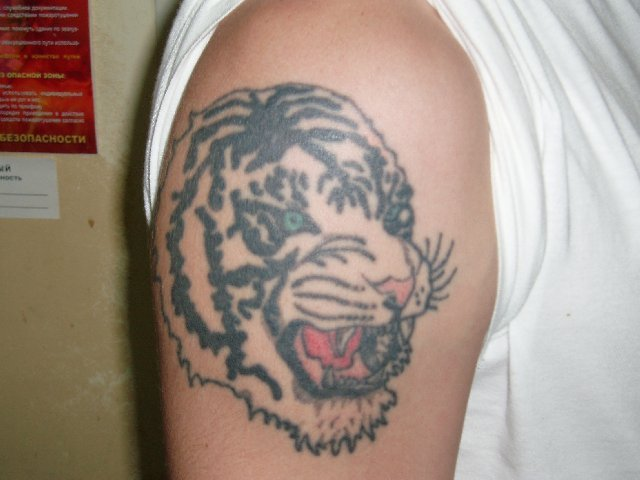tatu5_tigr: (158, 80, 461, 458)
